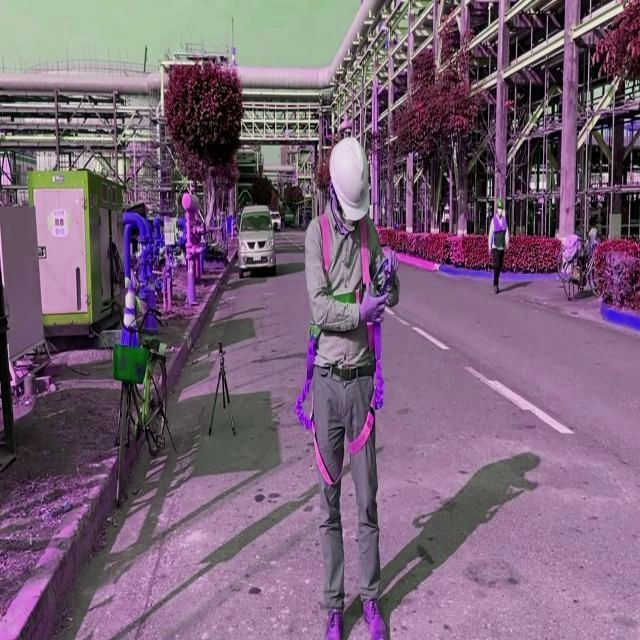safety belt: (298, 206, 395, 484)
